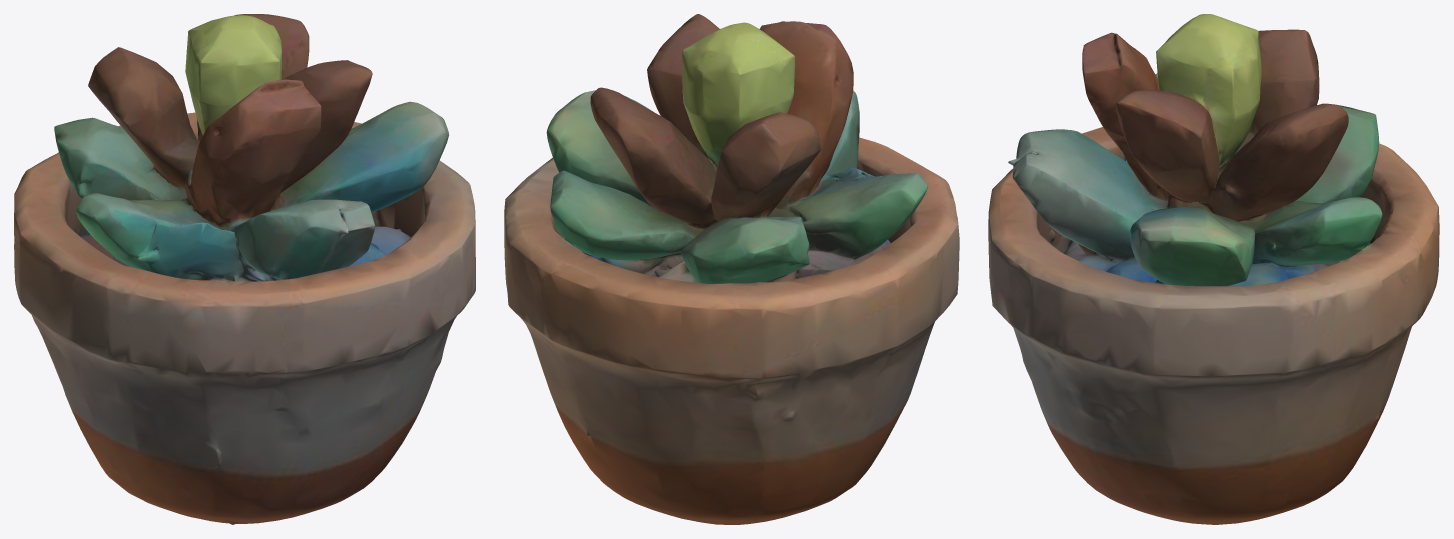
Rendered from succulent-web.glb.
3 renders of one model, left to right at view 1: azimuth 30°, elevation 25°; view 2: azimuth 150°, elevation 25°; view 3: azimuth 270°, elevation 25°, orthographic. The views are drawn at different scales.
Visible parts, largest first — view 1: tripo_node_230cde2e-a5d7-49df-9c6a-06d4f07ffb94; view 2: tripo_node_230cde2e-a5d7-49df-9c6a-06d4f07ffb94; view 3: tripo_node_230cde2e-a5d7-49df-9c6a-06d4f07ffb94.
Boxes of the visible parts, left/top/right/bottom form: tripo_node_230cde2e-a5d7-49df-9c6a-06d4f07ffb94: left=14, top=14, right=475, bottom=524; tripo_node_230cde2e-a5d7-49df-9c6a-06d4f07ffb94: left=504, top=14, right=959, bottom=524; tripo_node_230cde2e-a5d7-49df-9c6a-06d4f07ffb94: left=988, top=14, right=1439, bottom=524.
Size of the model in its own units: 0.8353 by 0.9997 by 0.8354.
1 material, 1 textured.
